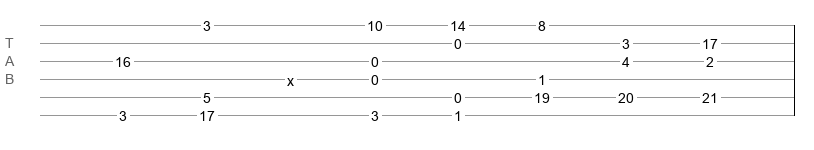0: (371, 72, 379, 82), (371, 54, 379, 64), (454, 90, 462, 100), (454, 36, 462, 46)
1: (454, 108, 462, 118), (538, 72, 546, 82)
10: (367, 18, 383, 28)
14: (450, 18, 466, 28)
16: (115, 54, 131, 64)
17: (199, 108, 215, 118), (702, 36, 718, 46)
19: (534, 90, 550, 100)
2: (706, 54, 714, 64)
20: (618, 90, 634, 100)
21: (702, 90, 718, 100)
3: (119, 108, 127, 118), (203, 18, 211, 28), (371, 108, 379, 118), (622, 36, 630, 46)
4: (622, 54, 630, 64)
5: (203, 90, 211, 100)
8: (538, 18, 546, 28)
x: (287, 73, 294, 81)
